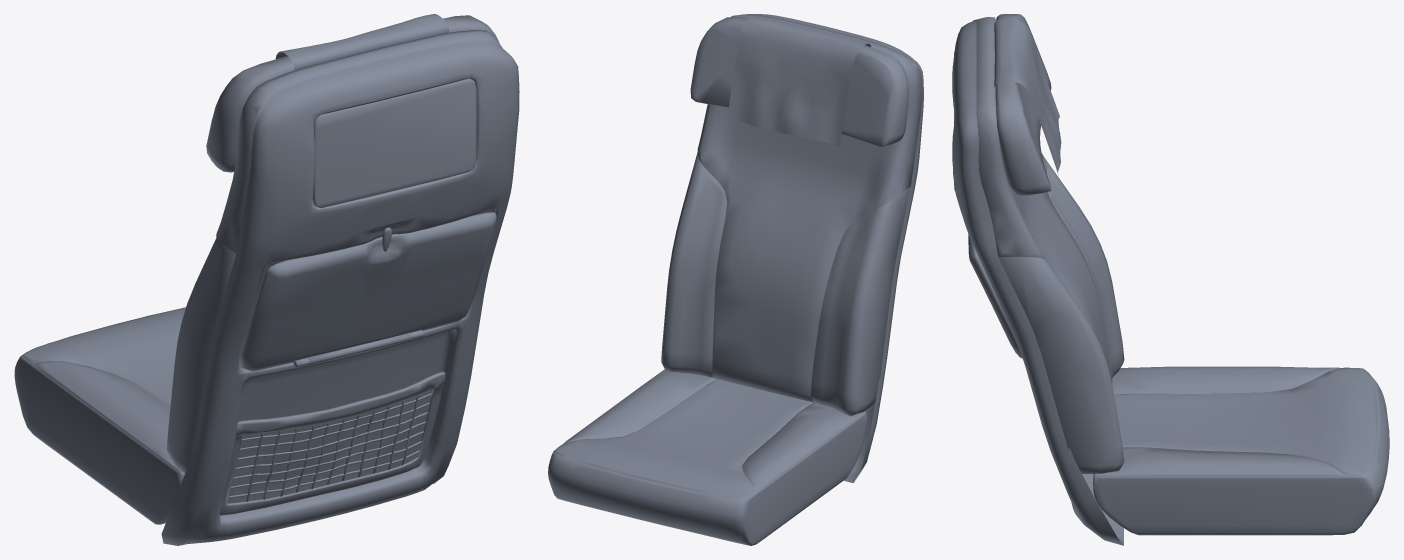
The model's file is cabin-seat-instance.glb.
3 renders of one model, left to right at view 1: azimuth 30°, elevation 25°; view 2: azimuth 150°, elevation 25°; view 3: azimuth 270°, elevation 25°, orthographic. The views are drawn at different scales.
Visible parts, largest first — view 1: seat_1; view 2: seat_1; view 3: seat_1.
Part boxes in pixels (box(x1,y1,x2,y2)): seat_1: box(14, 14, 519, 545); seat_1: box(548, 14, 923, 545); seat_1: box(952, 14, 1389, 545).
Size of the model in its own units: 0.4351 by 0.7932 by 0.709.
